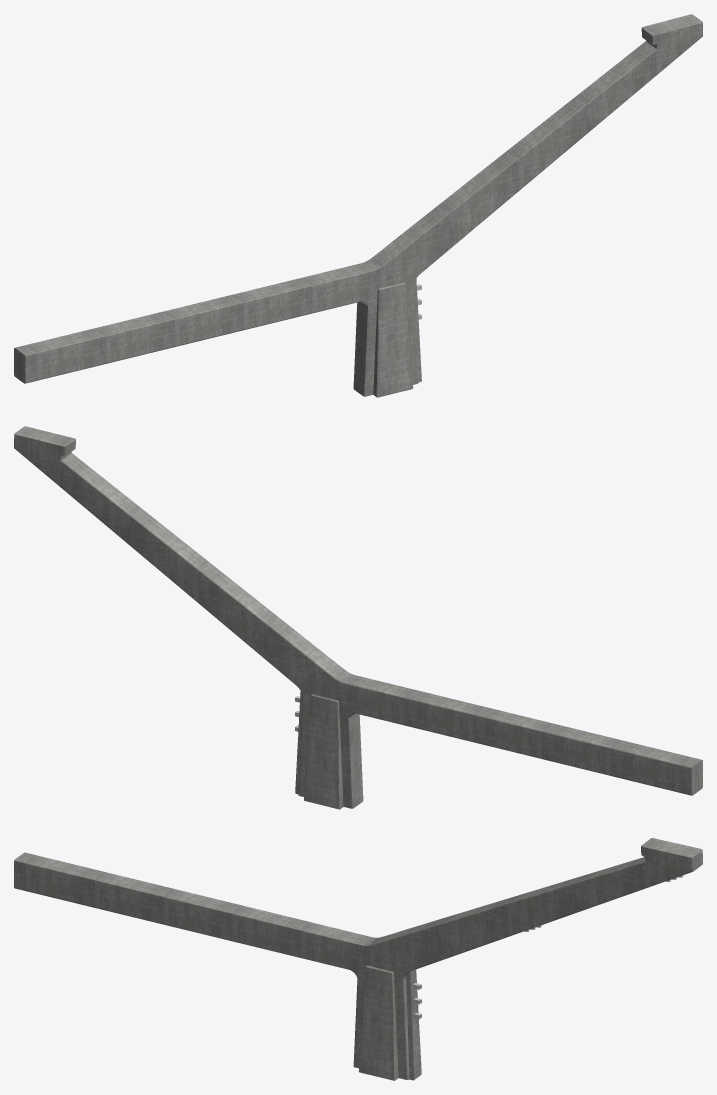
The model's file is Kitbash3D_Brutalist_Frame03.fbx.
3 views of the same model, one above another, from view 1: azimuth 30°, elevation 25°; view 2: azimuth 150°, elevation 25°; view 3: azimuth 330°, elevation 25° (orthographic).
Visible parts, largest first — view 1: MD_Support_Rib_Beam_Detail_Bot003; view 2: MD_Support_Rib_Beam_Detail_Bot003; view 3: MD_Support_Rib_Beam_Detail_Bot003.
Boxes of the visible parts, box(x1,y1,x2,y2) form: MD_Support_Rib_Beam_Detail_Bot003: box(14, 14, 702, 397); MD_Support_Rib_Beam_Detail_Bot003: box(14, 426, 702, 809); MD_Support_Rib_Beam_Detail_Bot003: box(14, 838, 702, 1080).
Size of the model in its own units: 32.04 by 13.22 by 1.51.
